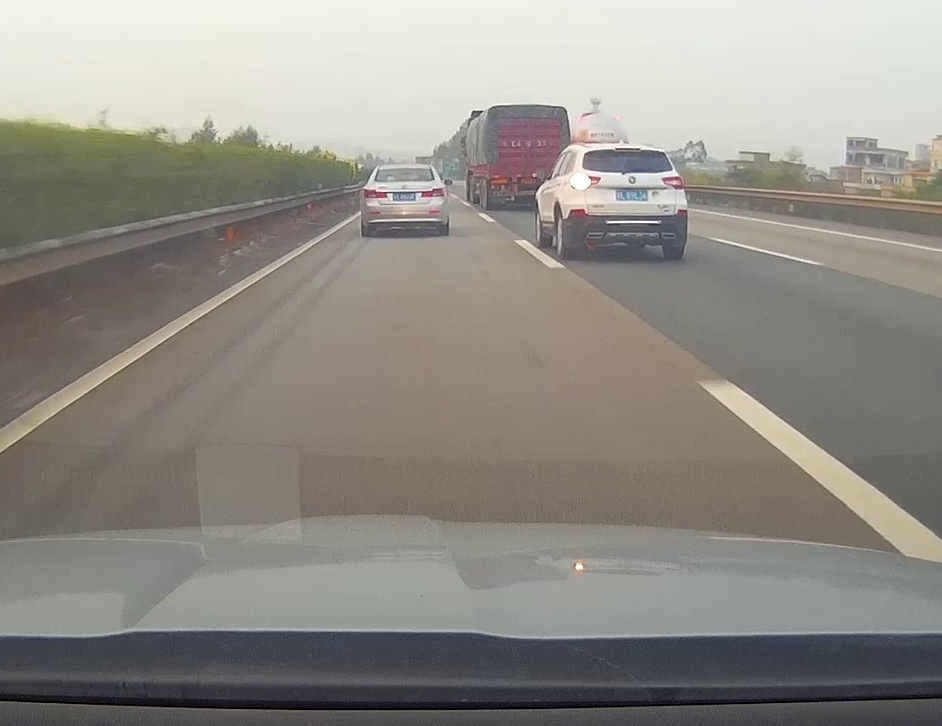L_light: (569, 173, 602, 189), (364, 189, 386, 198)
R_light: (661, 176, 684, 189), (422, 188, 445, 197)
T_light: (615, 190, 648, 201), (615, 147, 641, 152), (400, 167, 412, 169)
day-left: (562, 146, 688, 259)
day-no: (359, 164, 449, 236)
